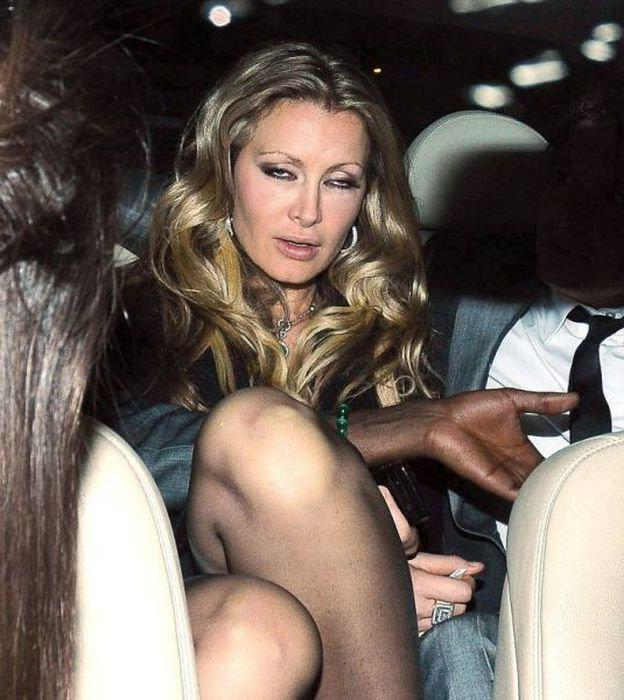Drunk: (248, 105, 354, 269)
